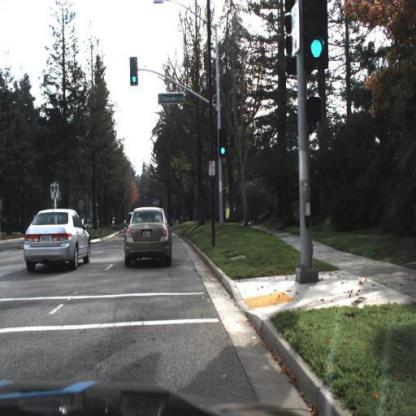car: (25, 210, 94, 276), (126, 206, 173, 270), (127, 210, 133, 231)
trafficLight: (300, 1, 329, 70), (219, 128, 228, 161), (130, 58, 138, 87)
